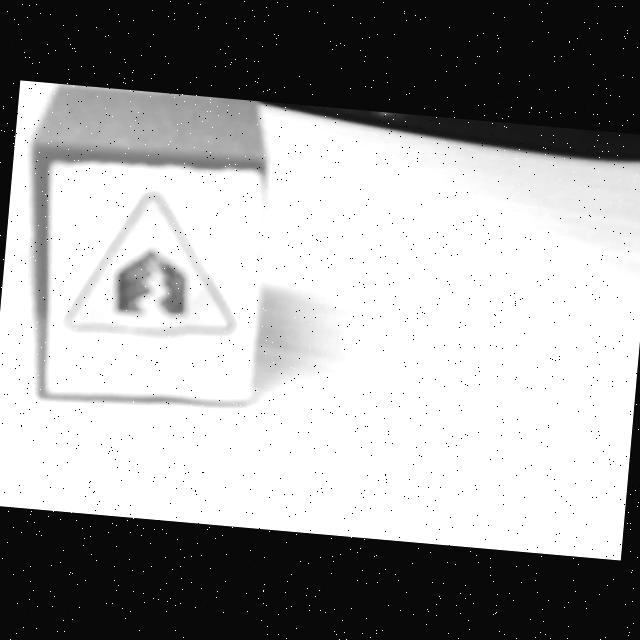Earthquake: (62, 189, 237, 337), (63, 191, 237, 337), (65, 236, 243, 343)
